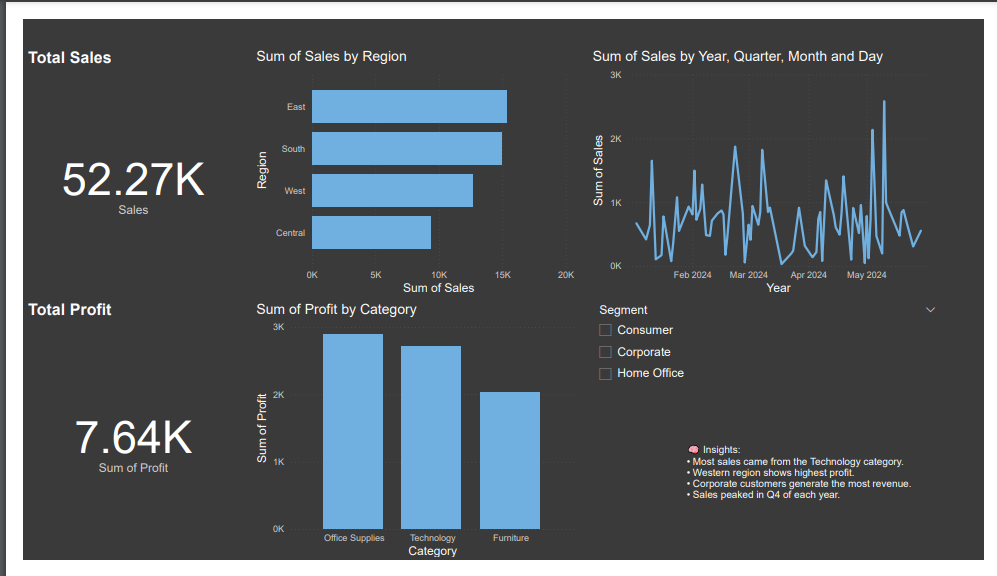

This screenshot's page, from the dashboard's own definition file:
{"tool":"powerbi","page":{"name":"Page 1","canvas":[1280,720],"ordinal":0},"visuals":[{"type":"card","title":"Total Sales","fields":{"Values":["Sum(Sheet1.Sales)"]},"box":[1.7,38.6,290.6,332.6],"z":0},{"type":"card","title":"Total Profit","fields":{"Values":["Sum(Sheet1.Profit)"]},"box":[1.7,374.6,290.6,346],"z":1000},{"type":"barChart","fields":{"Category":["Sheet1.Region"],"Y":["Sum(Sheet1.Sales)"]},"box":[305.7,38.6,433.4,332.6],"z":2000},{"type":"columnChart","fields":{"Category":["Sheet1.Category"],"Y":["Sum(Sheet1.Profit)"]},"box":[305.7,374.6,433.4,346],"z":3000},{"type":"lineChart","fields":{"Category":["Sheet1.Order Date.Variation.Date Hierarchy.Year","Sheet1.Order Date.Variation.Date Hierarchy.Quarter","Sheet1.Order Date.Variation.Date Hierarchy.Month","Sheet1.Order Date.Variation.Date Hierarchy.Day"],"Y":["Sum(Sheet1.Sales)"]},"box":[754.2,38.6,473.7,332.6],"z":4000},{"type":"slicer","fields":{"Values":["Sheet1.Segment"]},"box":[754.5,373.9,473.3,346.9],"z":4001},{"type":"textbox","box":[878.5,559.4,319.2,132.7],"z":4002}]}

Visuals, with their boxes in screenshot pixels (x1, y1, x2, y2), scaled from the page's 1280x720 canvas onto the 997x576 screenshot:
"Total Sales" card: [x1=1, y1=31, x2=228, y2=297]
"Total Profit" card: [x1=1, y1=300, x2=228, y2=575]
barChart - Sheet1.Region x Sum(Sheet1.Sales): [x1=238, y1=31, x2=576, y2=297]
columnChart - Sheet1.Category x Sum(Sheet1.Profit): [x1=238, y1=300, x2=576, y2=575]
lineChart - Sheet1.Order Date.Variation.Date Hierarchy.Year x Sheet1.Order Date.Variation.Date Hierarchy.Quarter: [x1=587, y1=31, x2=956, y2=297]
slicer - Sheet1.Segment: [x1=588, y1=299, x2=956, y2=575]
textbox: [x1=684, y1=448, x2=933, y2=554]
